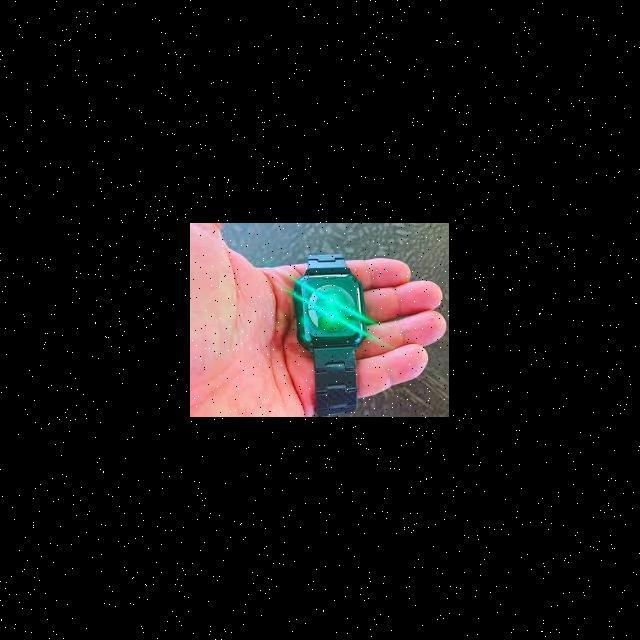watch: (265, 223, 397, 427)
